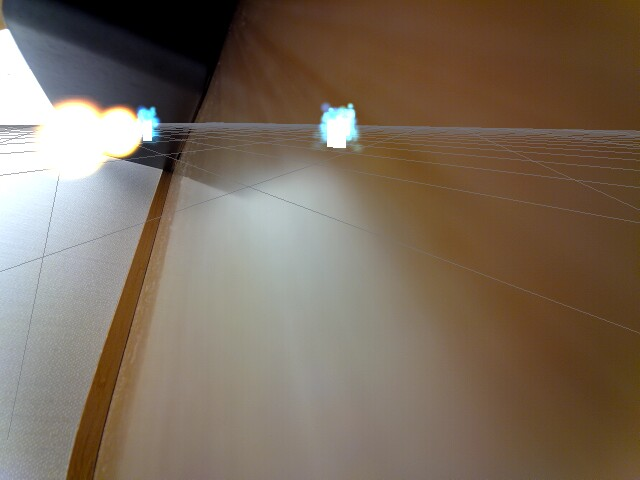firebig: (30, 90, 103, 182)
